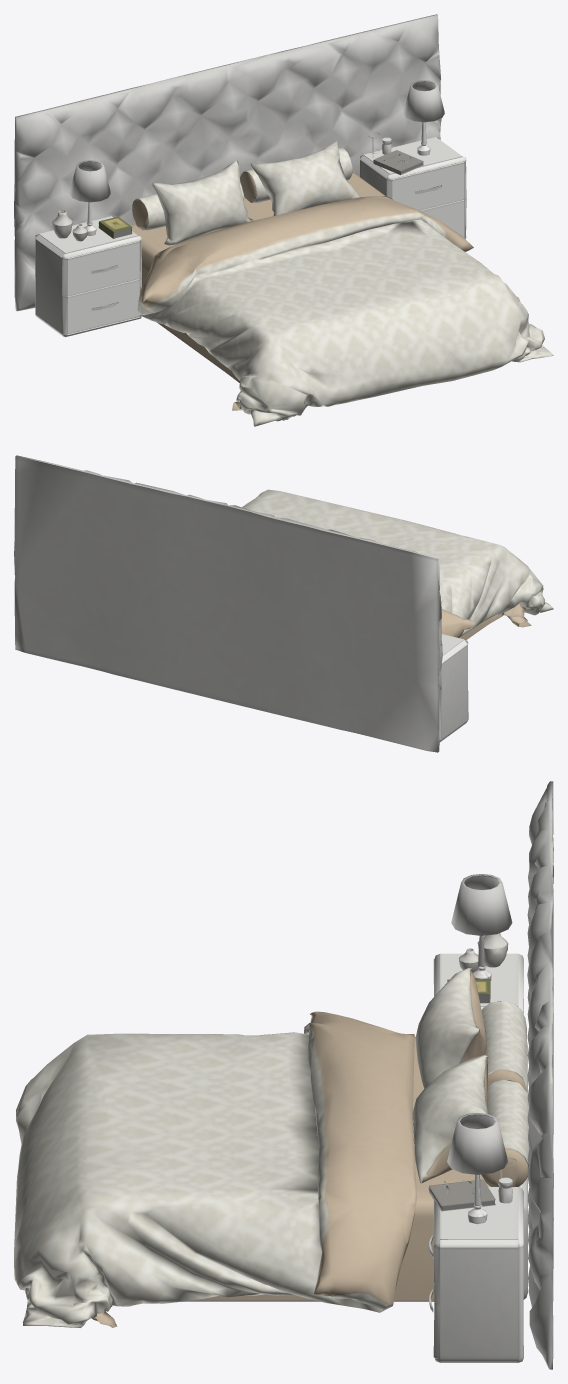
File: king-size-classic-bed-8e29c8.glb
3 views of the same model, one above another, from view 1: azimuth 30°, elevation 25°; view 2: azimuth 150°, elevation 25°; view 3: azimuth 270°, elevation 25° (orthographic). The views are drawn at different scales.
Visible parts, largest first — view 1: PropMesh; view 2: PropMesh; view 3: PropMesh.
Part boxes in pixels (<box>): PropMesh: <box>14,14,553,426</box>; PropMesh: <box>14,455,553,752</box>; PropMesh: <box>14,781,553,1369</box>.
Size of the model in its own units: 2.6 by 1.15 by 1.94.
Materials: 1 (1 with a texture image).
